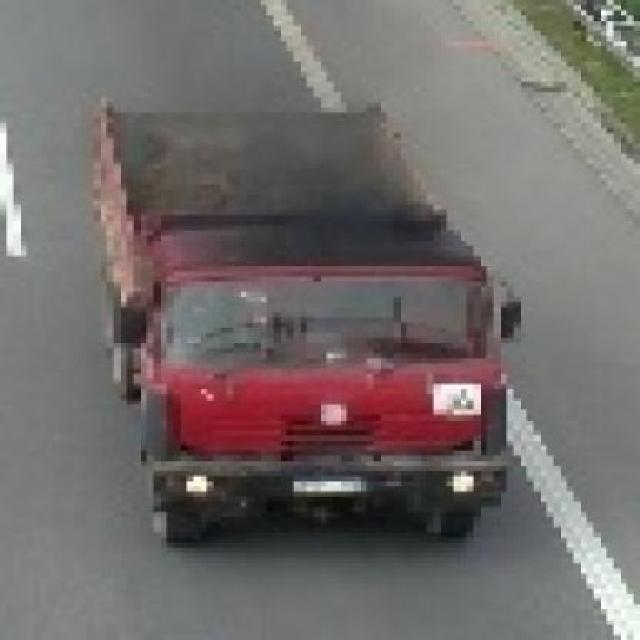truck: (81, 88, 515, 554)
